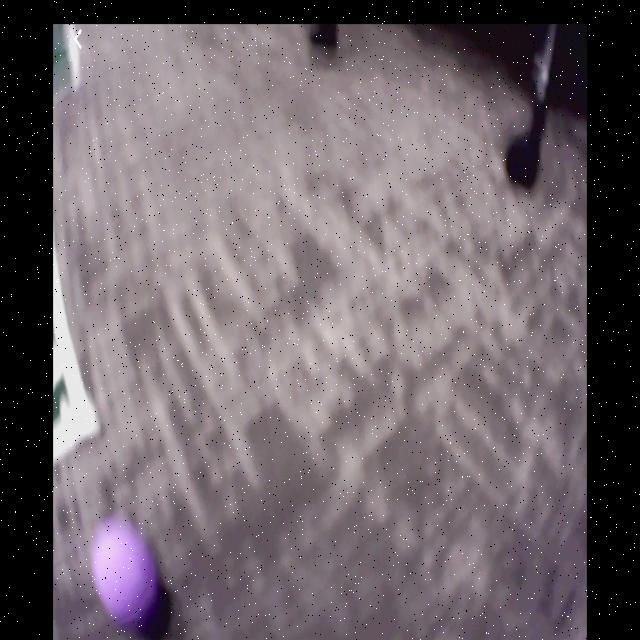ball: (92, 519, 159, 628)
